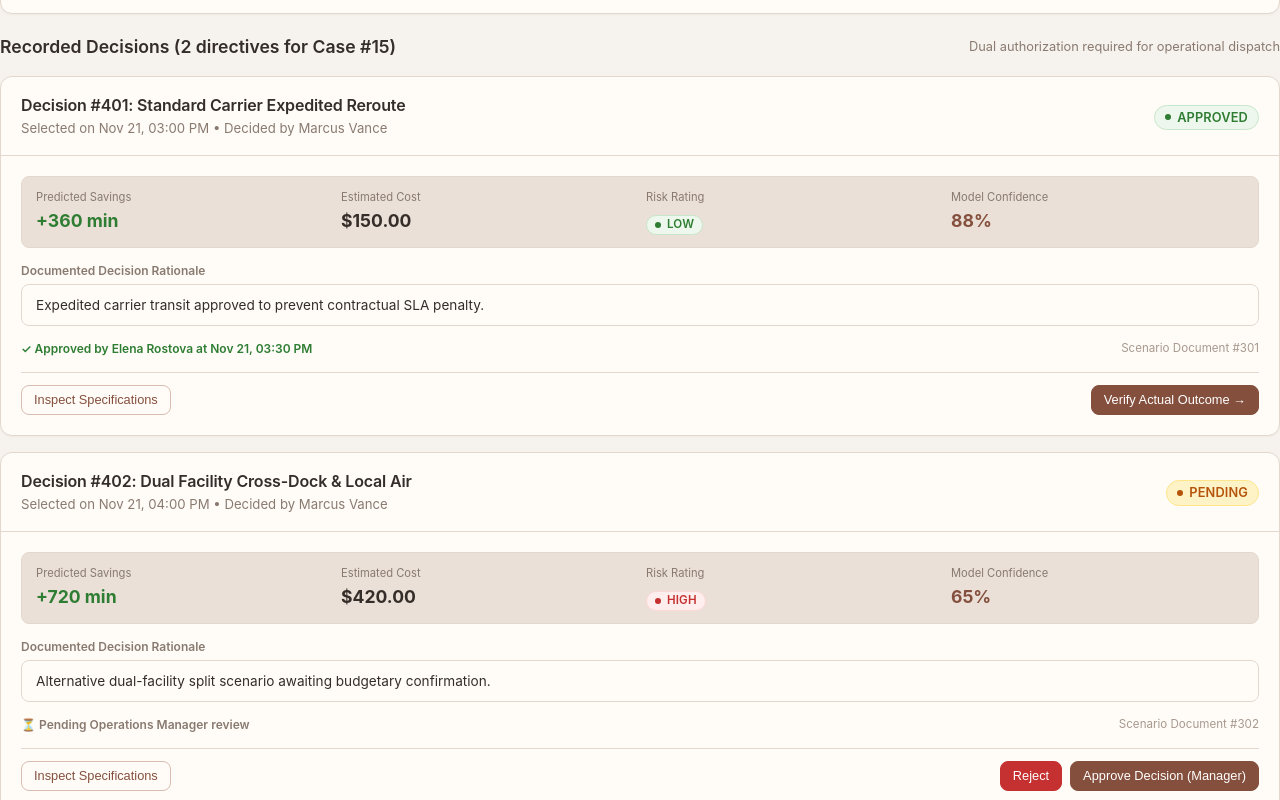
Test: DecisionsPage Component › opens and closes decision specifications detail modal
(page scrolled)
Expected: the heading "Decision #401: Standard Carrier Expedited Reroute" is shown, [21,93,406,117]
Click the button "Inspect Specifications" below "✓ Approved by" at (96, 400), box [21,385,171,415]
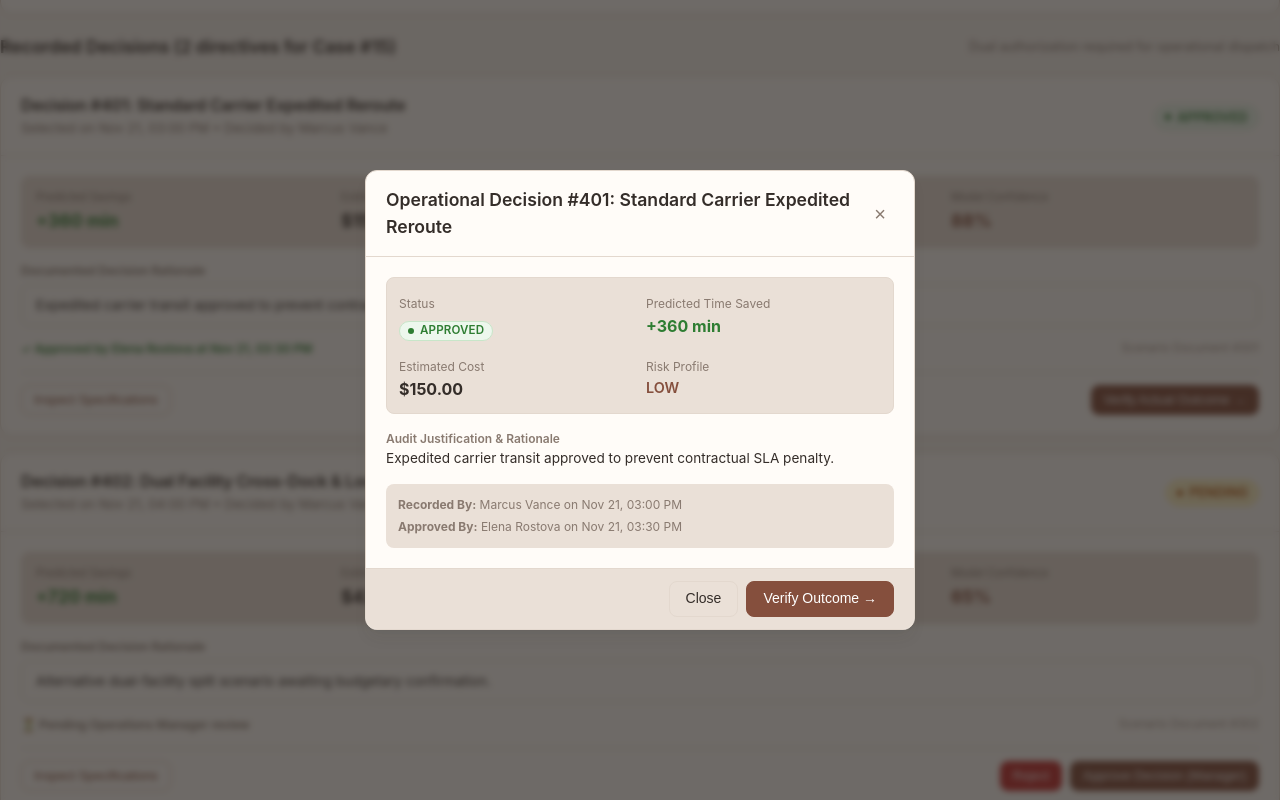
Expected: the text "Audit Justification & Rationale" is shown, [386,431,560,446]
Click the button named "Close" at (880, 214), box [866,200,894,228]
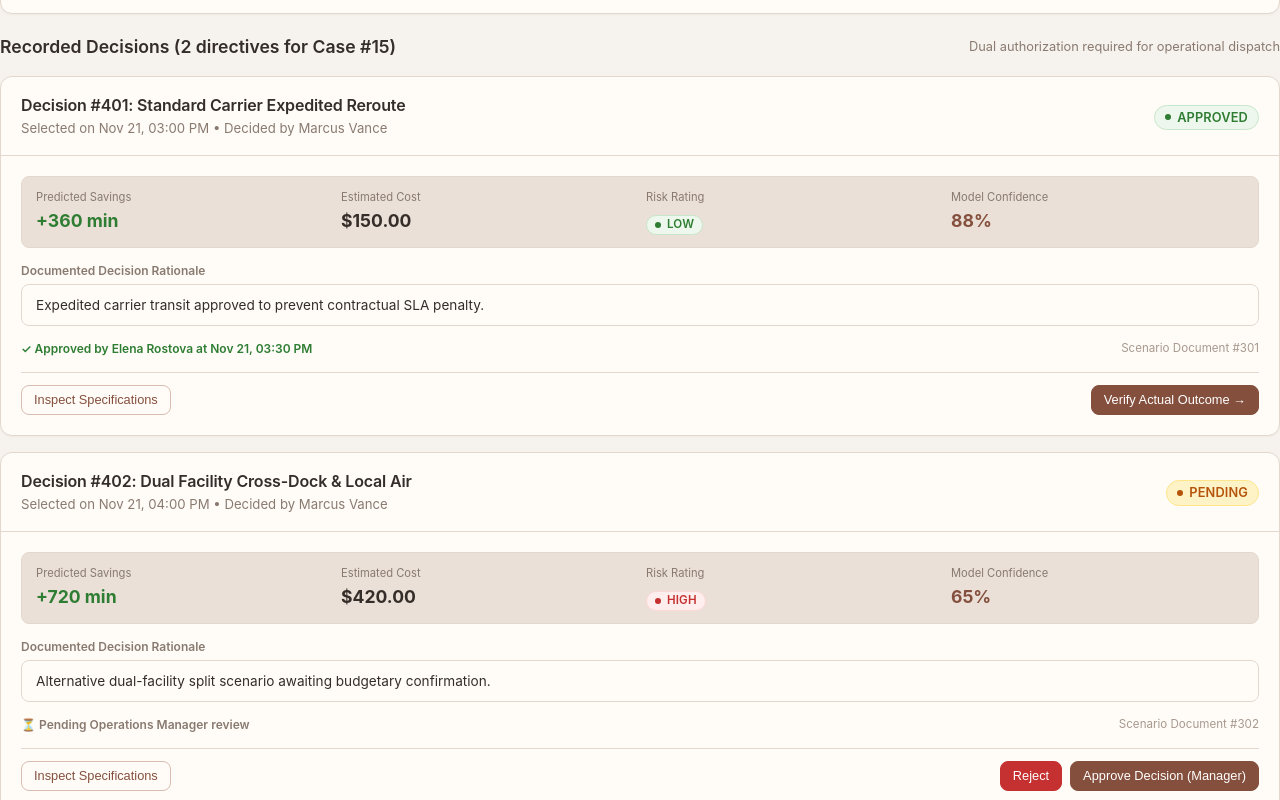
Expected: the text "Audit Justification & Rationale" is gone
